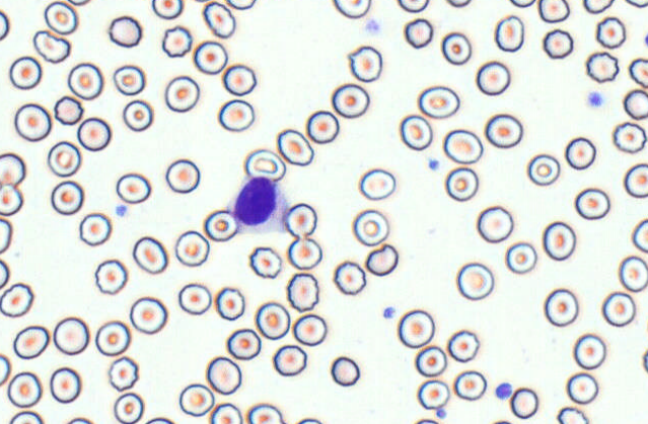MONO: (227, 172, 295, 238)
PLT: (586, 91, 607, 112), (495, 382, 515, 401), (424, 159, 444, 173), (381, 306, 397, 321), (115, 203, 128, 217), (435, 407, 448, 419)
RBC: (456, 261, 494, 300), (397, 308, 434, 348), (442, 128, 483, 164), (276, 128, 314, 166), (129, 296, 167, 334), (14, 102, 51, 141), (52, 316, 89, 355), (205, 355, 241, 395), (244, 148, 286, 182), (476, 205, 513, 243), (352, 208, 389, 246), (254, 301, 290, 340), (132, 235, 168, 274), (543, 287, 578, 327), (542, 220, 576, 261), (417, 85, 459, 118), (67, 62, 103, 100), (484, 113, 523, 148), (164, 75, 200, 112), (331, 83, 369, 118), (286, 272, 319, 312), (94, 320, 130, 356), (7, 371, 42, 408), (347, 45, 382, 82), (217, 98, 255, 132), (174, 230, 209, 266), (601, 291, 636, 327), (47, 140, 81, 177), (358, 167, 396, 200), (202, 0, 235, 38), (76, 116, 111, 151), (43, 0, 78, 35), (475, 60, 510, 95), (165, 158, 200, 193), (178, 383, 214, 417), (13, 325, 49, 359), (94, 258, 127, 295), (287, 236, 322, 270), (193, 40, 228, 74), (50, 180, 84, 215), (8, 55, 42, 90), (305, 109, 339, 144), (444, 166, 478, 201), (284, 202, 317, 238), (399, 114, 432, 150), (574, 187, 610, 220), (573, 333, 606, 369), (49, 366, 81, 403), (78, 212, 112, 246), (0, 282, 33, 317), (292, 313, 327, 346), (333, 260, 366, 295), (115, 172, 151, 204), (494, 14, 524, 52), (364, 243, 398, 276), (177, 282, 211, 315), (526, 153, 560, 186), (222, 63, 256, 96), (107, 356, 139, 391), (203, 209, 238, 241), (272, 344, 307, 376), (226, 328, 261, 360), (504, 241, 537, 274), (108, 15, 142, 47), (248, 246, 282, 278), (585, 51, 619, 83), (612, 121, 646, 153), (564, 136, 596, 170), (618, 255, 647, 292), (414, 345, 447, 377), (447, 329, 479, 362), (214, 286, 245, 320), (566, 372, 598, 404), (416, 379, 449, 410), (453, 370, 486, 401), (112, 64, 145, 95), (595, 16, 626, 49), (441, 31, 471, 65), (161, 25, 192, 57), (122, 99, 153, 131), (113, 392, 144, 423), (542, 28, 573, 59), (330, 355, 360, 386), (403, 17, 433, 48), (509, 387, 538, 419), (53, 95, 83, 125), (0, 152, 25, 187), (623, 162, 647, 198), (623, 88, 647, 120), (537, 0, 570, 23), (0, 184, 23, 216), (247, 403, 283, 423), (332, 0, 371, 18), (209, 402, 242, 423), (151, 0, 183, 19), (628, 57, 647, 88), (556, 406, 589, 423), (632, 218, 647, 253), (9, 410, 44, 423), (582, 0, 614, 14), (0, 217, 12, 254), (397, 0, 429, 13), (0, 353, 11, 386), (225, 0, 256, 10), (0, 258, 9, 289), (0, 9, 9, 40), (509, 0, 535, 8), (145, 416, 174, 423), (66, 416, 93, 423), (624, 0, 647, 8), (446, 0, 471, 7), (295, 417, 323, 423), (642, 348, 648, 373), (67, 0, 91, 6), (414, 418, 438, 423), (491, 419, 512, 424), (644, 32, 648, 47)
Schistocyte: (32, 29, 73, 65)
